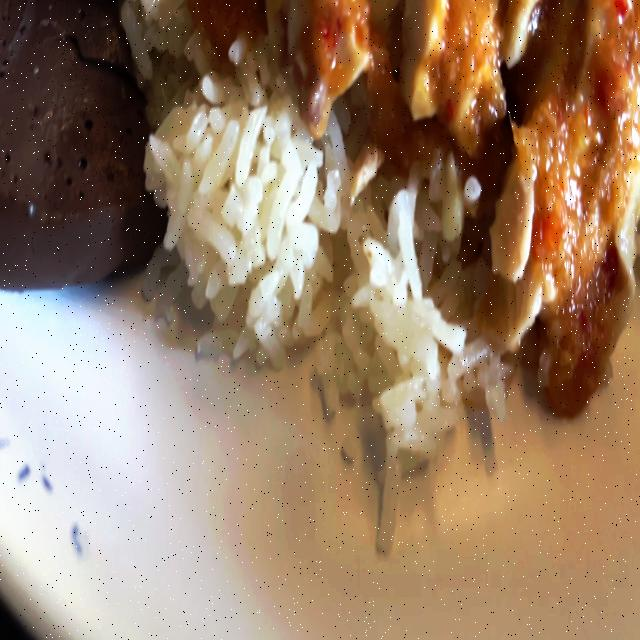boiled_chicken: (201, 0, 640, 349)
boiled_chicken_blood_jelly: (0, 0, 158, 274)
chicken_rice: (0, 0, 640, 503)
